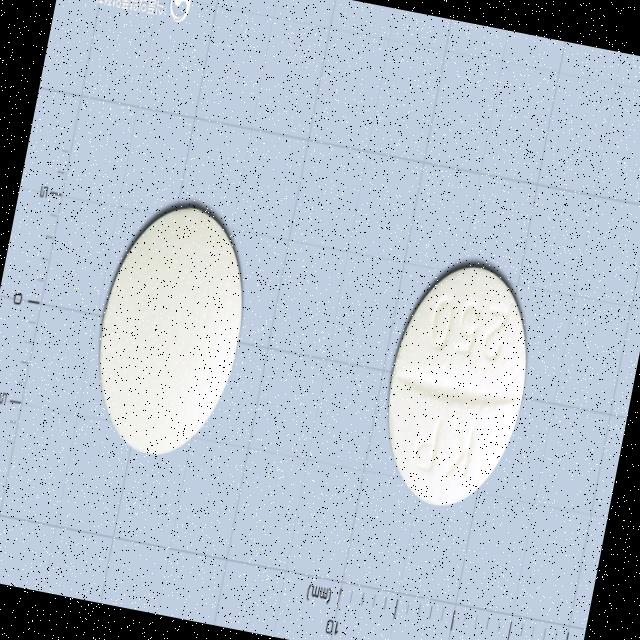Kipocin: (78, 192, 262, 468), (368, 254, 544, 519)
